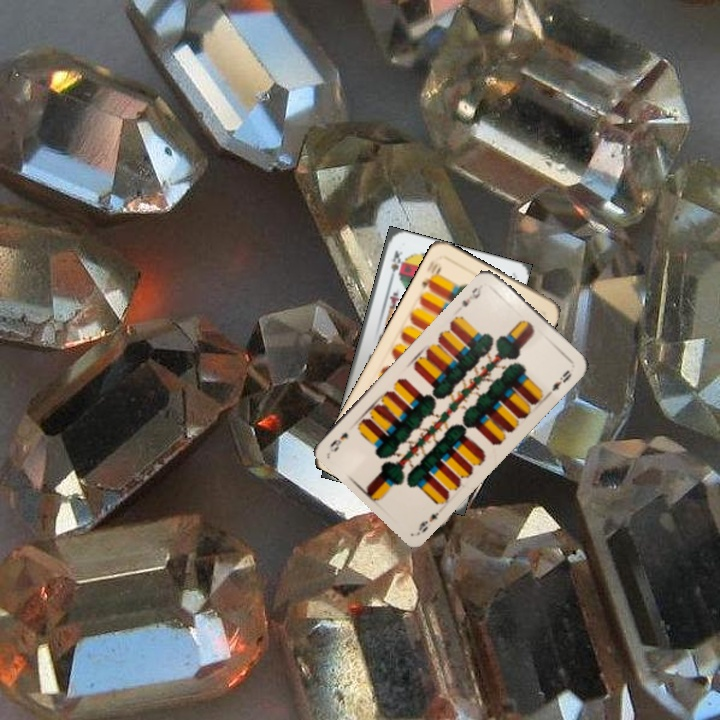E10: (418, 258, 444, 293)
E9: (458, 280, 486, 310), (414, 508, 442, 535)
SK: (385, 246, 406, 284)
